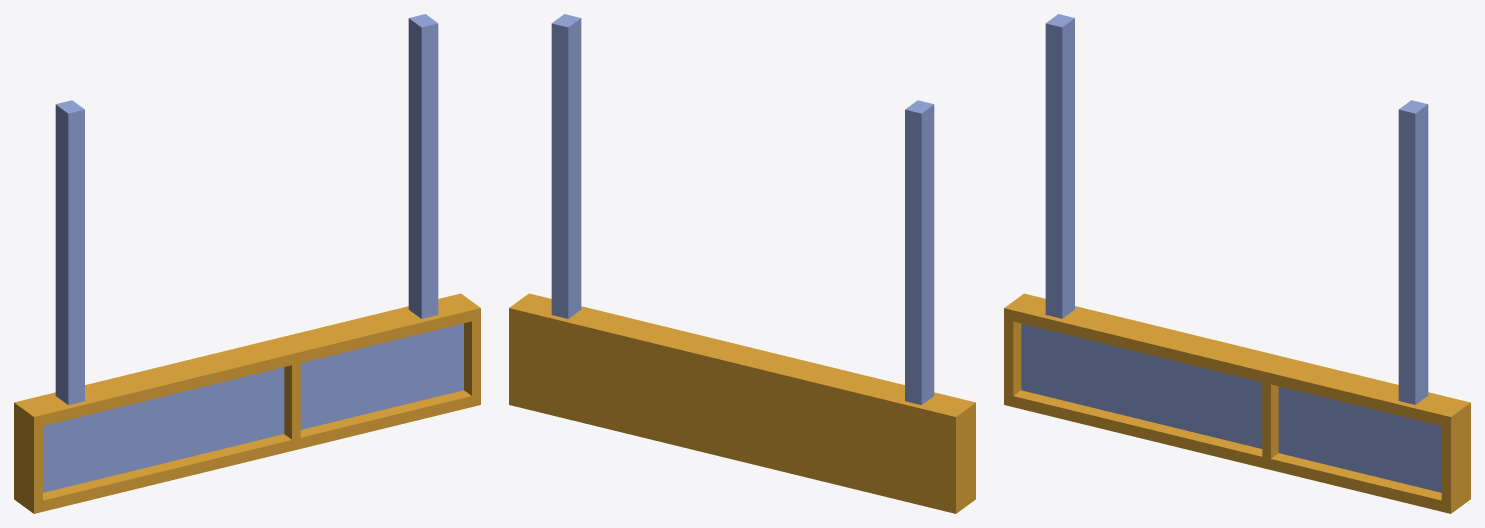
The model's file is time_stand.fbx.
The picture shows the model from 3 angles, left to right: view 1: azimuth 30°, elevation 25°; view 2: azimuth 150°, elevation 25°; view 3: azimuth 330°, elevation 25°; orthographic projection.
Parts seen in each view (by area): view 1: Cube.007; view 2: Cube.007; view 3: Cube.007.
Boxes of the visible parts, x1=… form: Cube.007: x1=14, y1=14, x2=480, y2=513; Cube.007: x1=509, y1=14, x2=975, y2=513; Cube.007: x1=1004, y1=14, x2=1470, y2=513.
Size of the model in its own units: 204 by 169 by 15.74.
